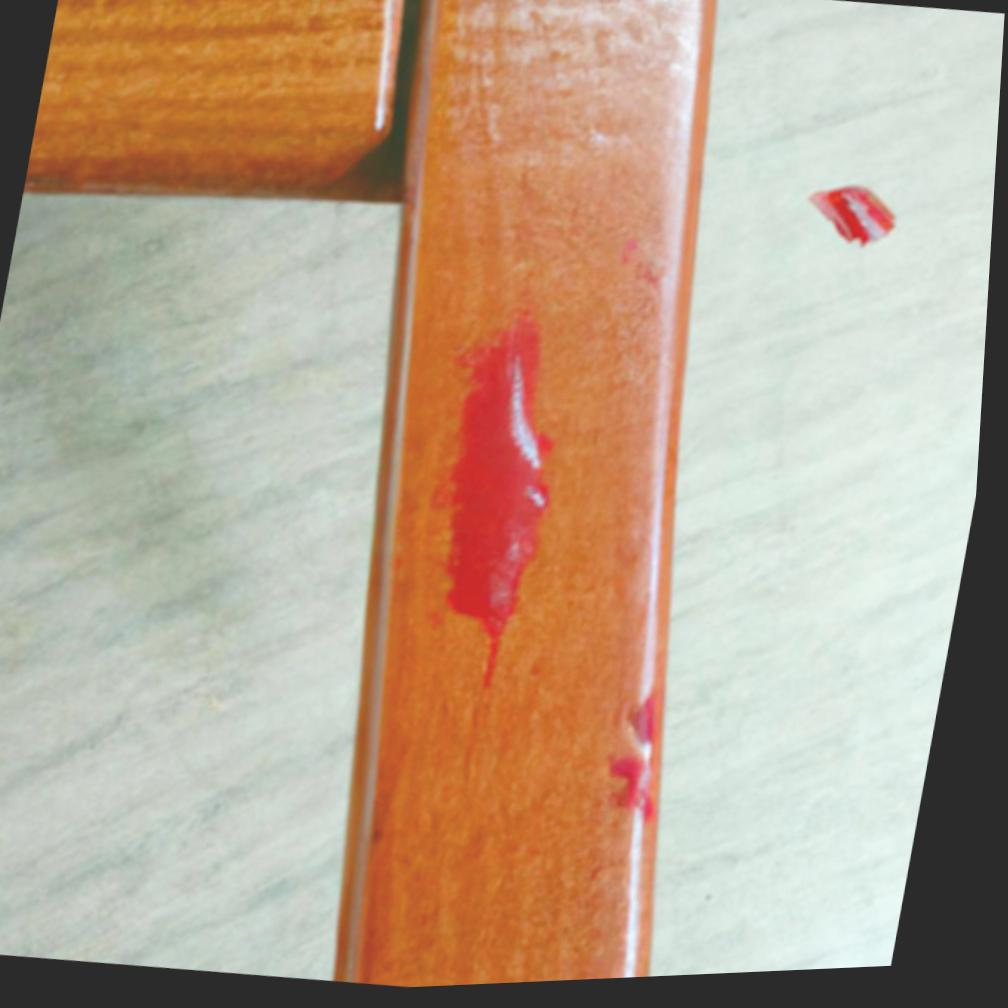Fire: (451, 314, 560, 693), (618, 760, 666, 828), (638, 698, 666, 752)
